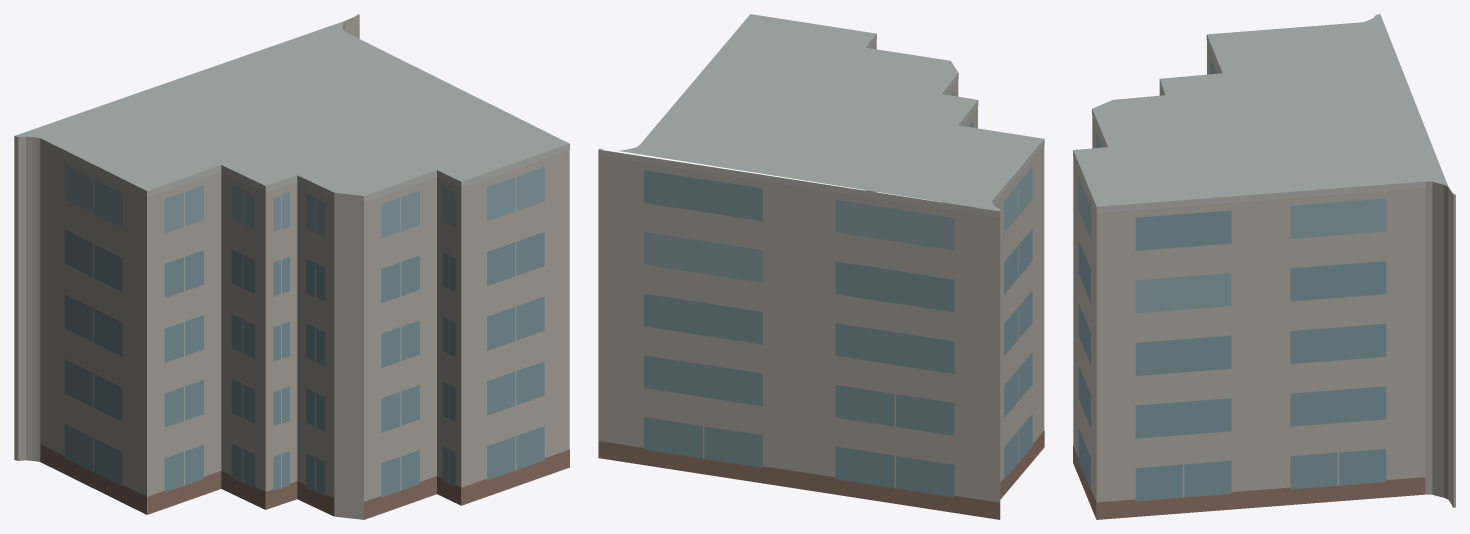
Rendered from survey-upis-32580506.glb.
The picture shows the model from 3 angles, left to right: view 1: azimuth 30°, elevation 25°; view 2: azimuth 150°, elevation 25°; view 3: azimuth 270°, elevation 25°; orthographic projection. The views are drawn at different scales.
Parts seen in each view (by area): view 1: survey-upis-32580506.tmp; view 2: survey-upis-32580506.tmp; view 3: survey-upis-32580506.tmp.
Boxes of the visible parts, x1=… form: survey-upis-32580506.tmp: x1=14, y1=14, x2=569, y2=519; survey-upis-32580506.tmp: x1=598, y1=14, x2=1044, y2=519; survey-upis-32580506.tmp: x1=1073, y1=14, x2=1455, y2=519.
Size of the model in its own units: 16.39 by 12.4 by 13.74.
